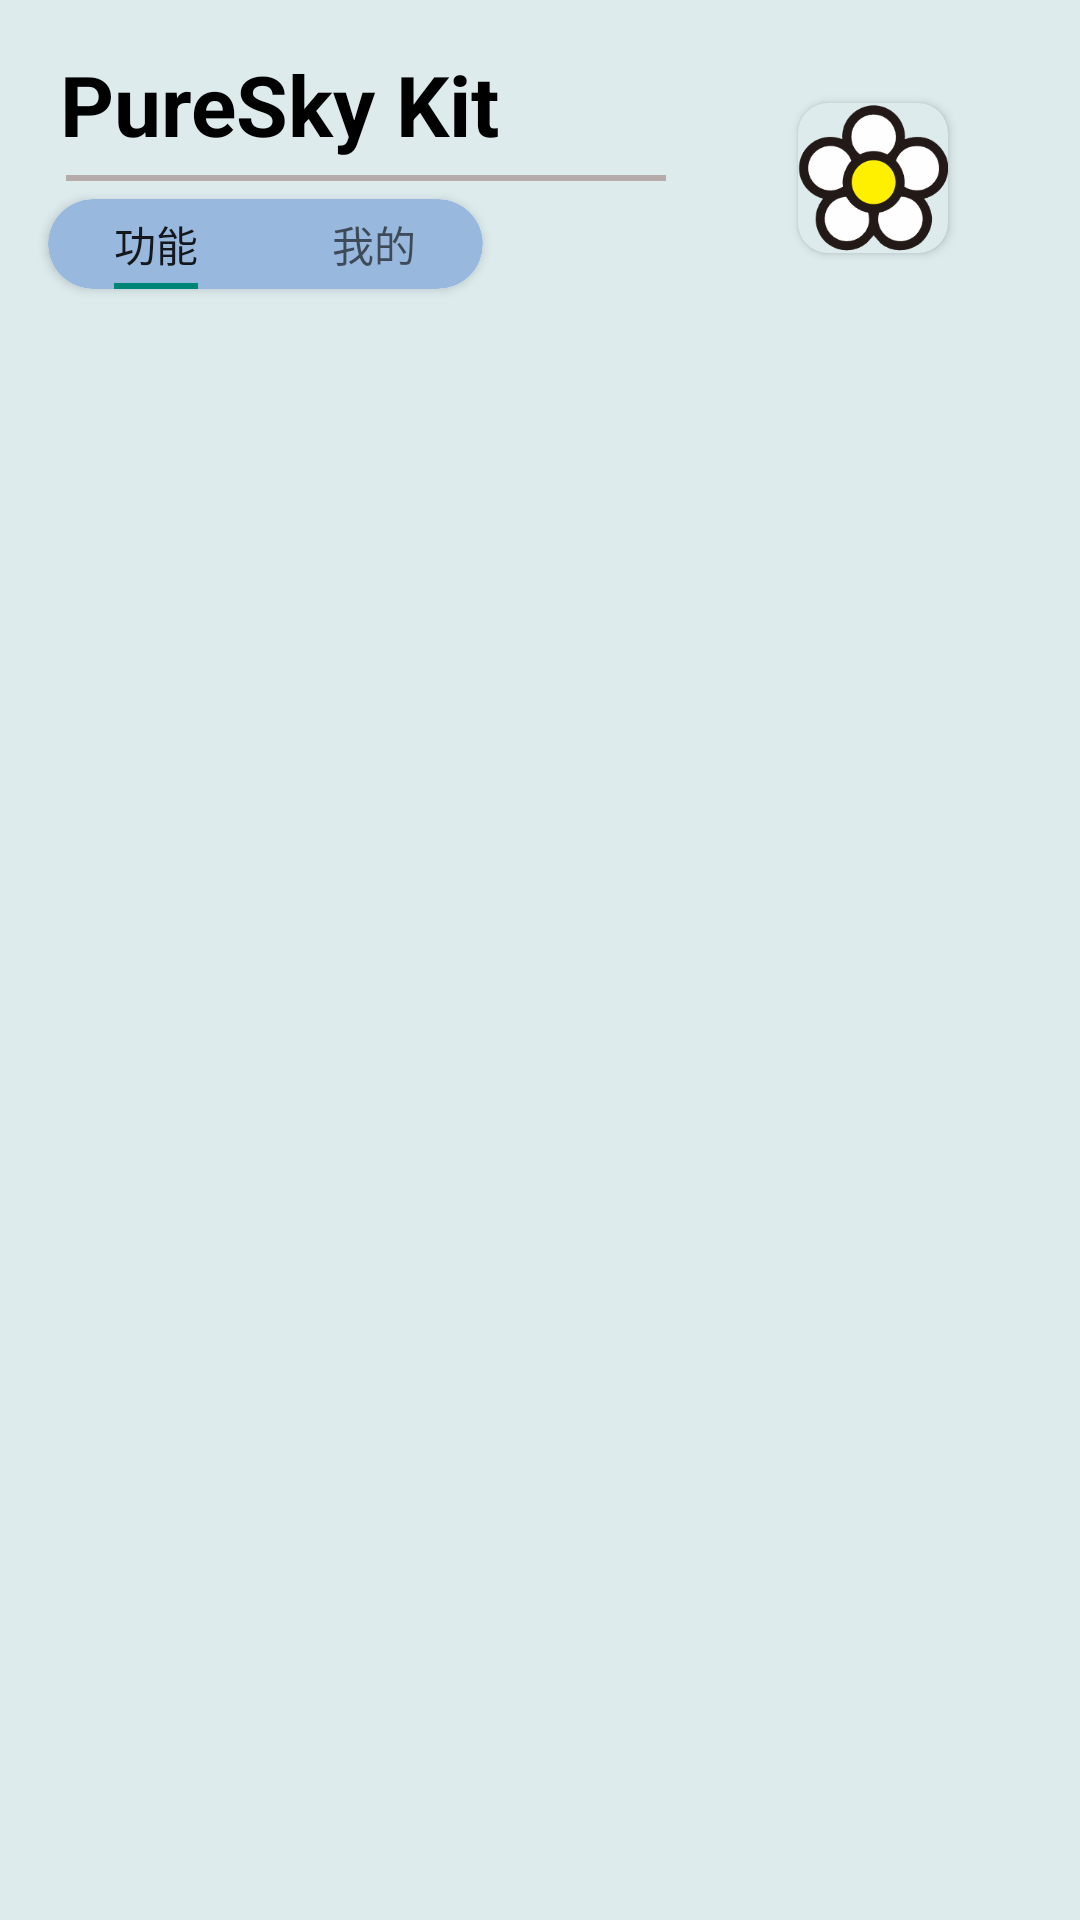

Screen size 1080x1920. Icon name, then its center in pixels as [x,y]:
juhua: [873,179]
